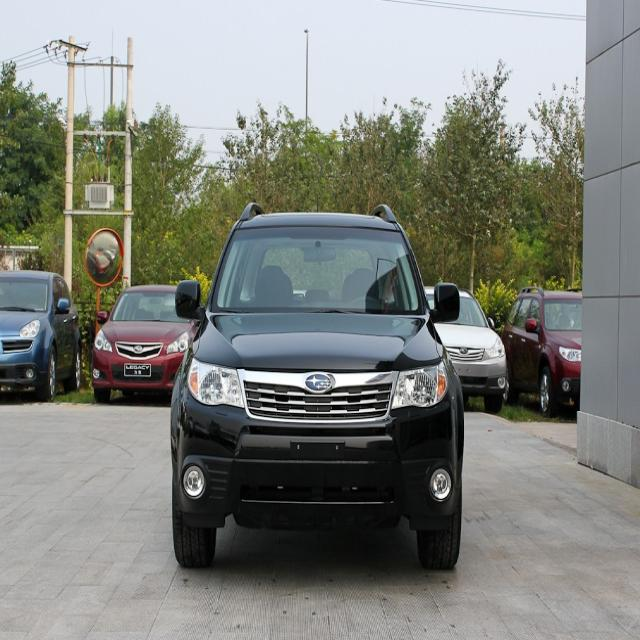front_bumper: (169, 388, 465, 522)
front_glass: (210, 226, 426, 315)
front_left_side_light: (388, 357, 450, 413)
front_left_side_mirror: (429, 281, 460, 324)
front_right_side_light: (186, 356, 246, 411)
front_right_side_mirror: (175, 277, 207, 323)
